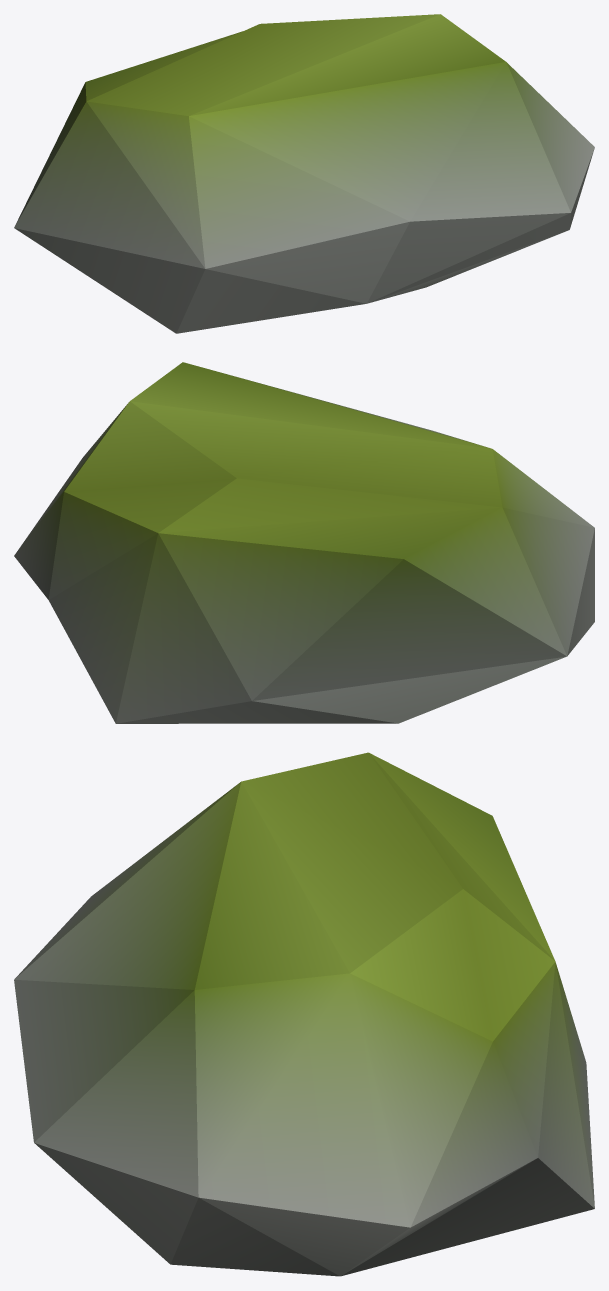
File: zen_rock_low-lod1.glb
The picture shows the model from 3 angles, top to bottom: view 1: azimuth 30°, elevation 25°; view 2: azimuth 150°, elevation 25°; view 3: azimuth 270°, elevation 25°; orthographic projection. The views are drawn at different scales.
Visible parts, largest first — view 1: zen_rock_low; view 2: zen_rock_low; view 3: zen_rock_low.
Part boxes in pixels (<box>): zen_rock_low: <box>14,14,594,333</box>; zen_rock_low: <box>14,362,594,723</box>; zen_rock_low: <box>14,752,594,1276</box>.
Size of the model in its own units: 1.91 by 0.8112 by 1.38.
